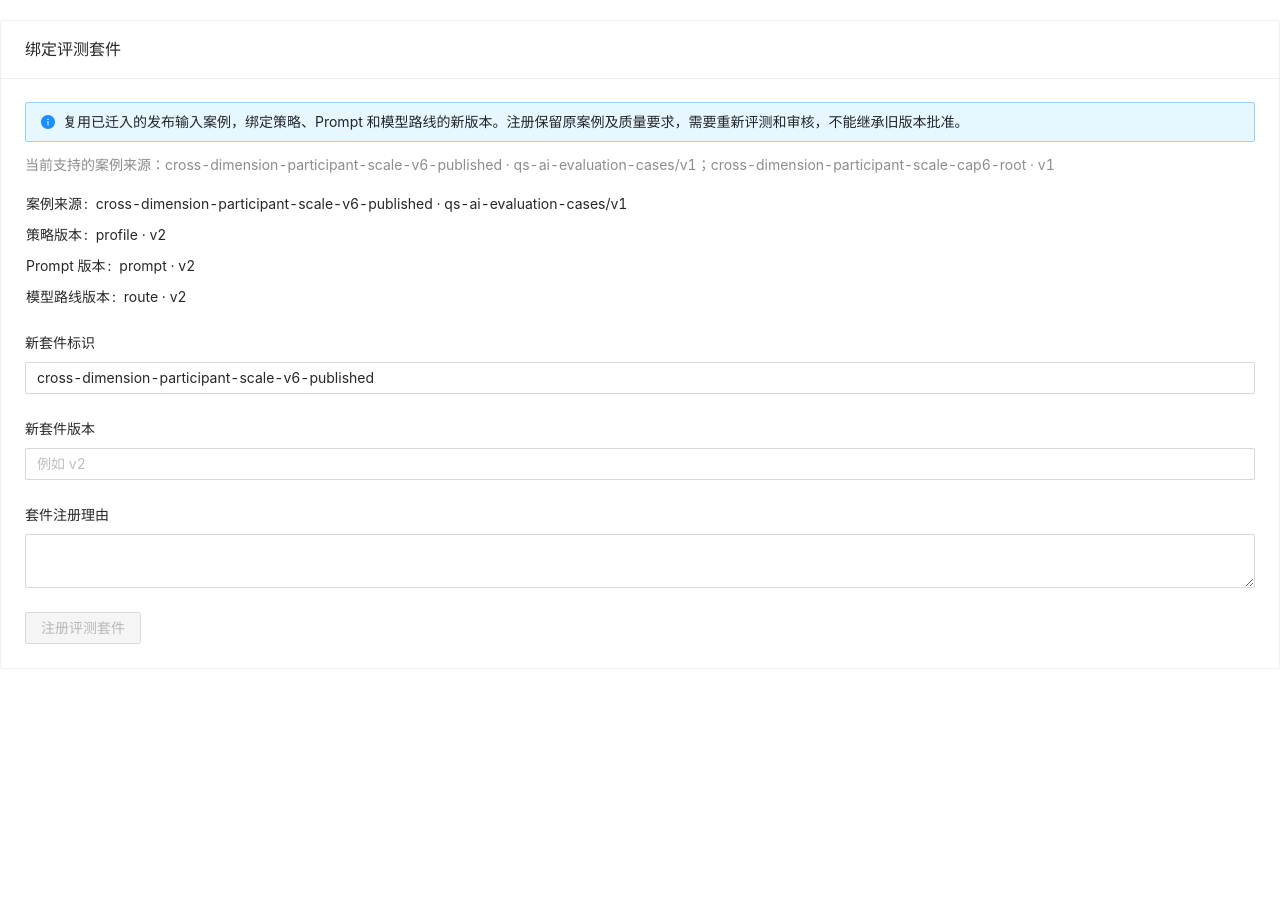
Test: does not accept a mismatched target receipt
Replace the text in the field named "新套件标识" with "native-suite" at (640,378), box [25,362,1255,394]
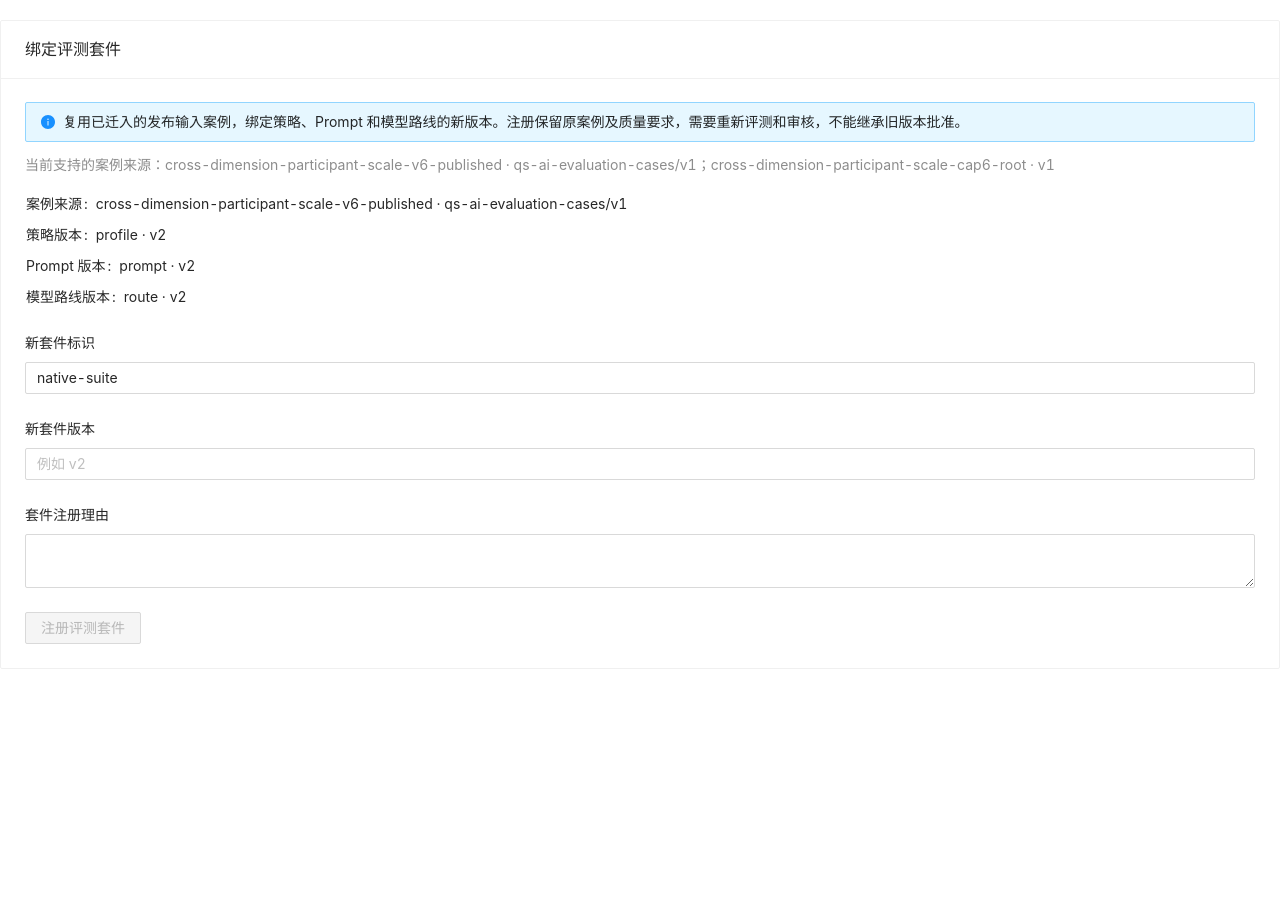
Type "v2" into the field named "新套件版本".
click(640, 464); type("v2")  # box [25,448,1255,480]
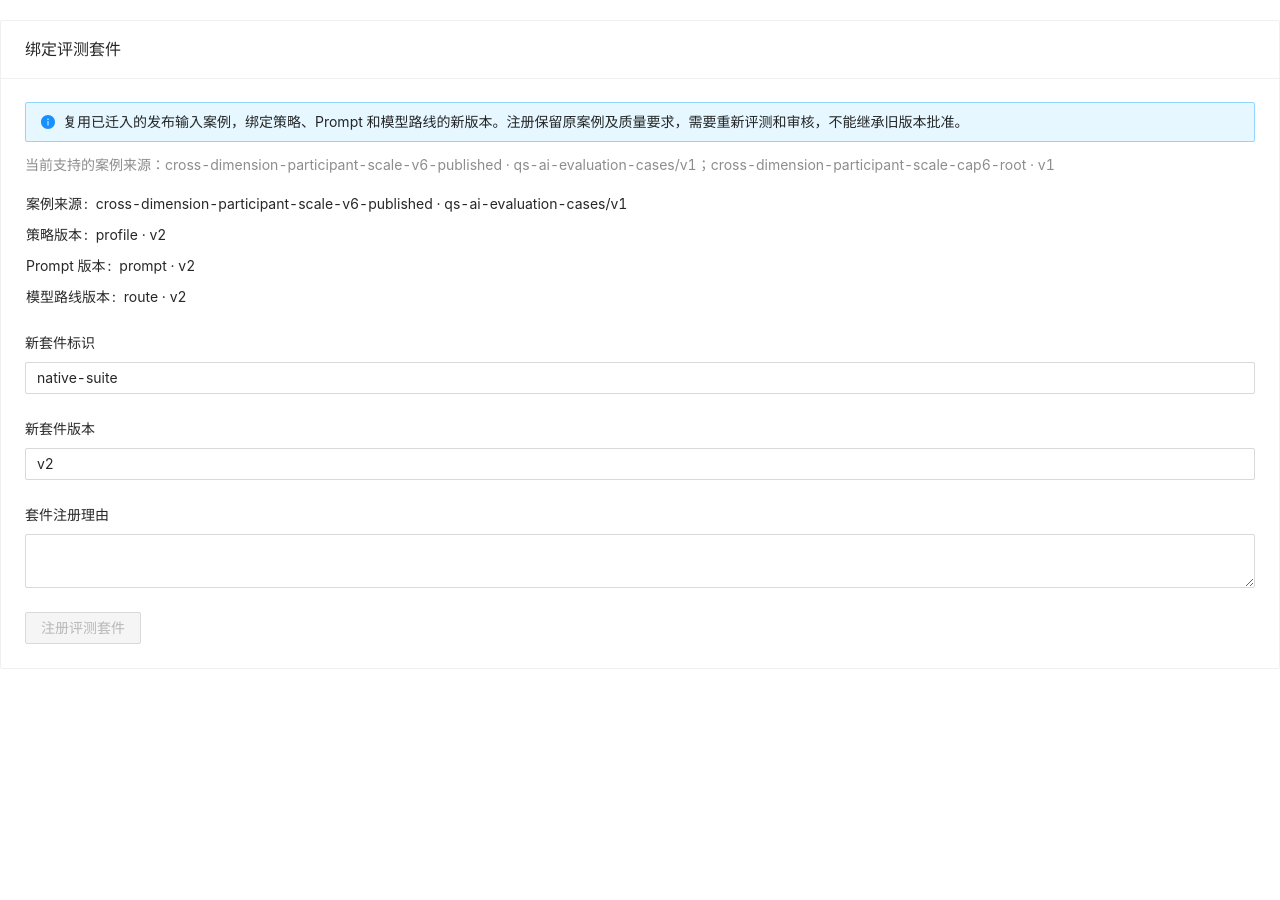
Type "评测新策略版本" into the text box named "套件注册理由".
click(640, 561); type("评测新策略版本")  # box [25,534,1255,588]
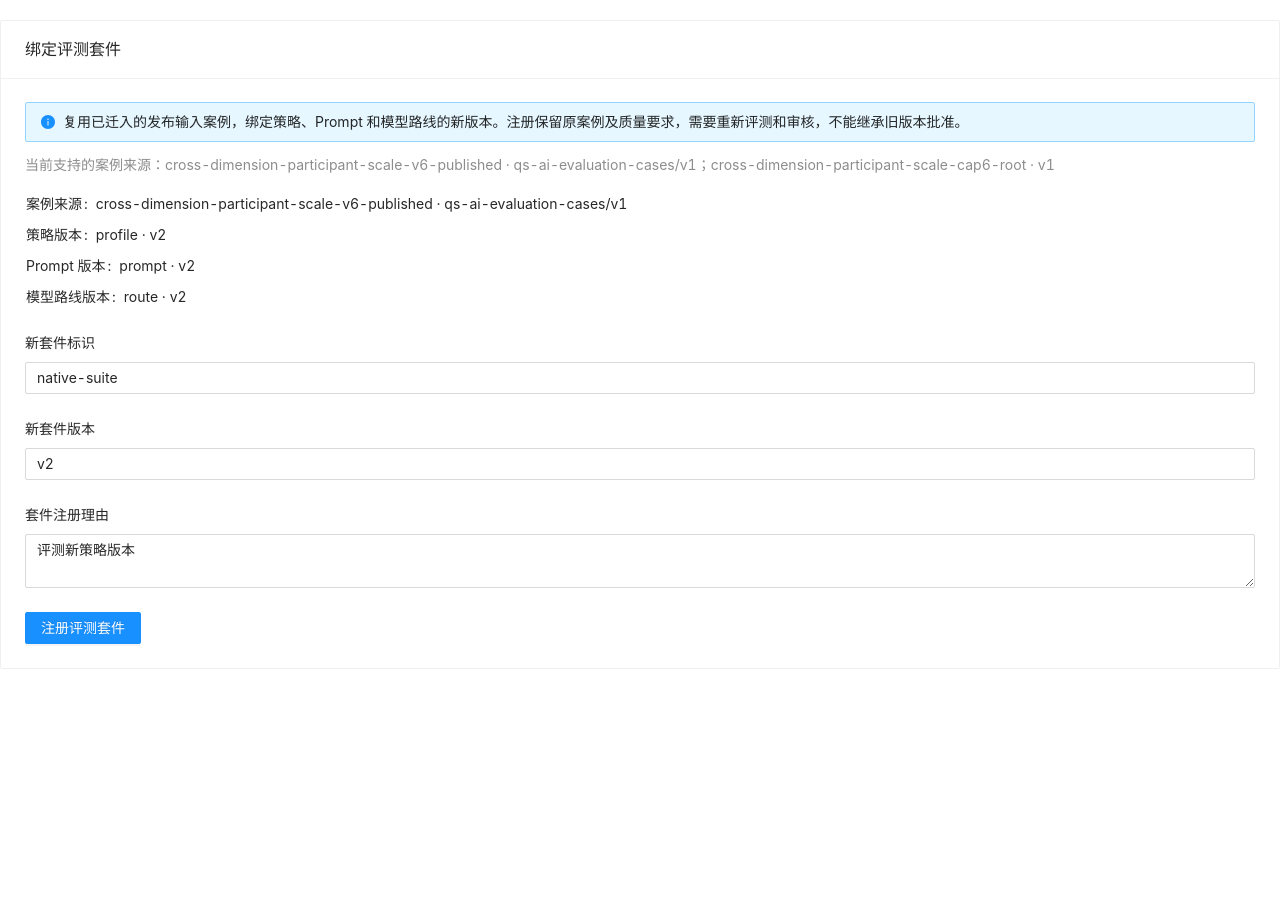
Click the button "注册评测套件".
click(83, 628)  # box [25,612,141,644]
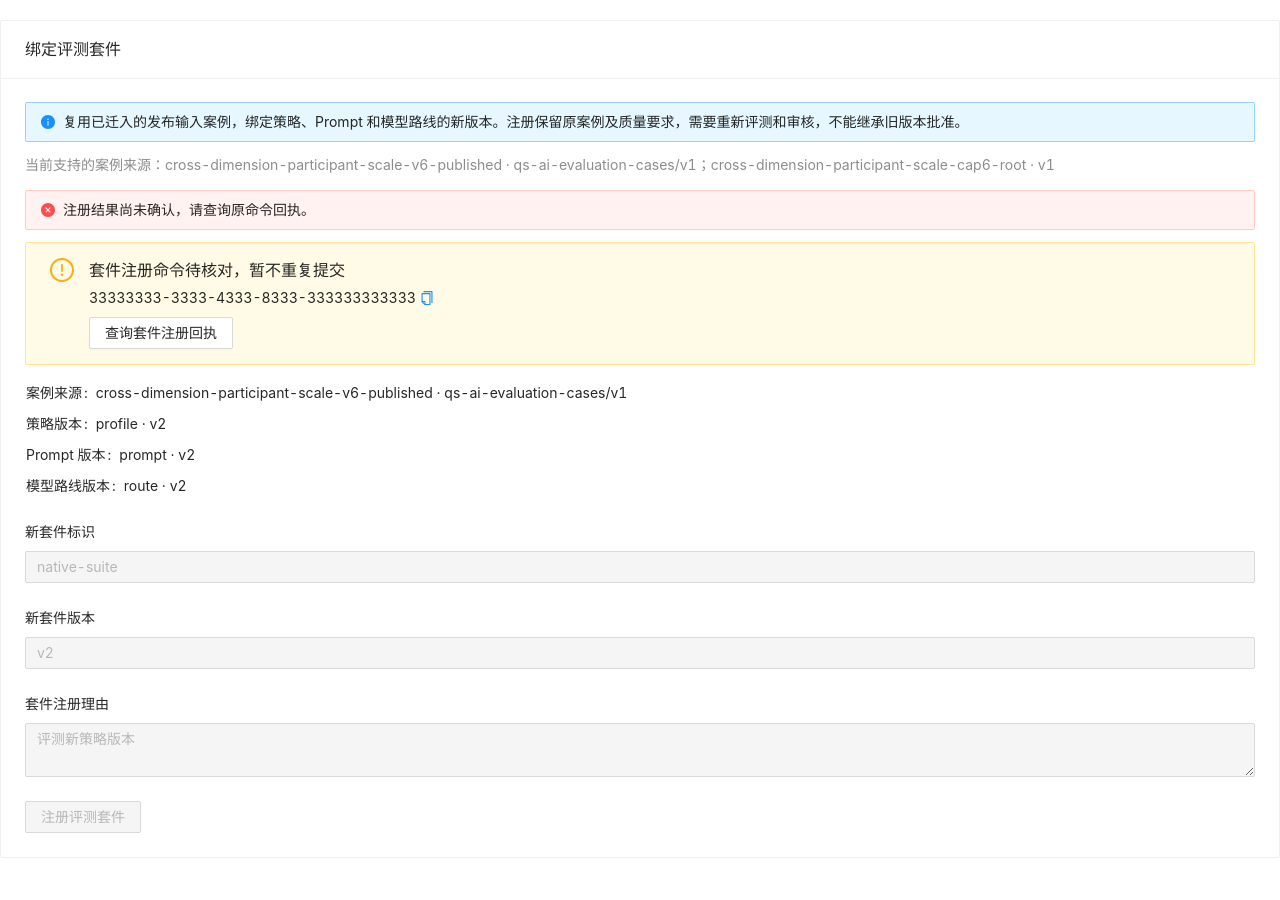
Check: the text "注册结果尚未确认，请查询原命令回执。" is shown, box [63,201,315,218]
